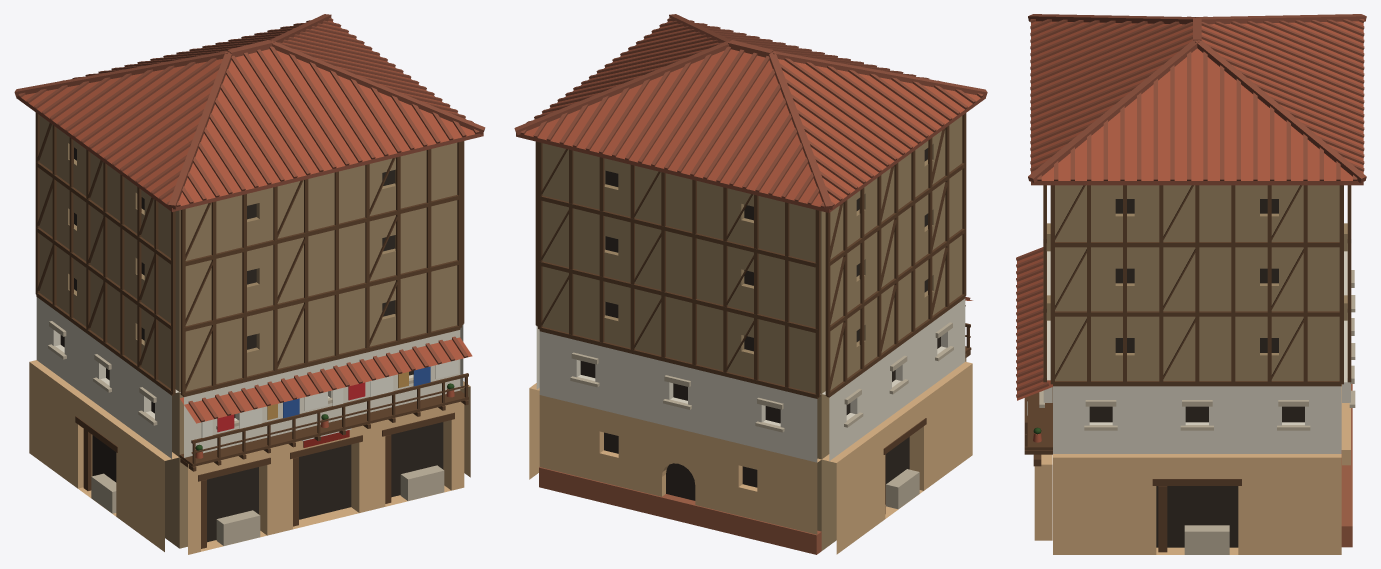
File: rome_insula_a.glb
3 views of the same model, side by side, from view 1: azimuth 30°, elevation 25°; view 2: azimuth 150°, elevation 25°; view 3: azimuth 270°, elevation 25° (orthographic). The views are drawn at different scales.
Visible parts, largest first — view 1: rome_insula_a; view 2: rome_insula_a; view 3: rome_insula_a.
Part boxes in pixels (left/top/right/bottom): rome_insula_a: left=14, top=14, right=485, bottom=554; rome_insula_a: left=514, top=14, right=987, bottom=554; rome_insula_a: left=1016, top=14, right=1366, bottom=554.
Size of the model in its own units: 15.26 by 19.27 by 13.71.
